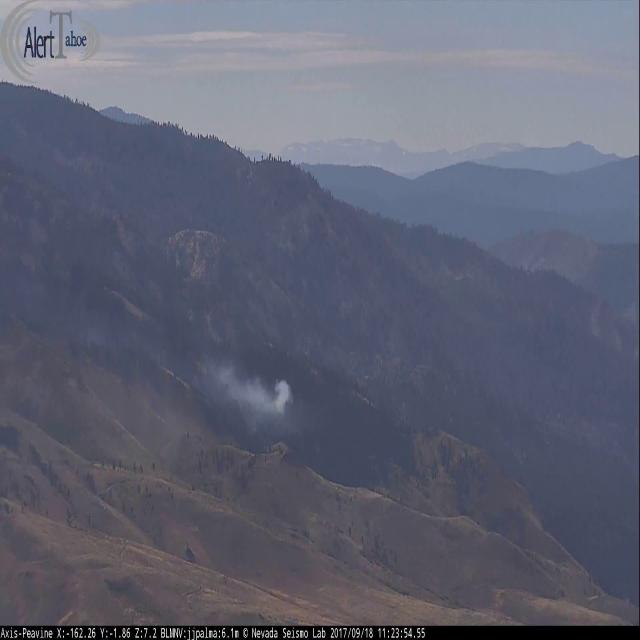smoke: (192, 356, 311, 439)
